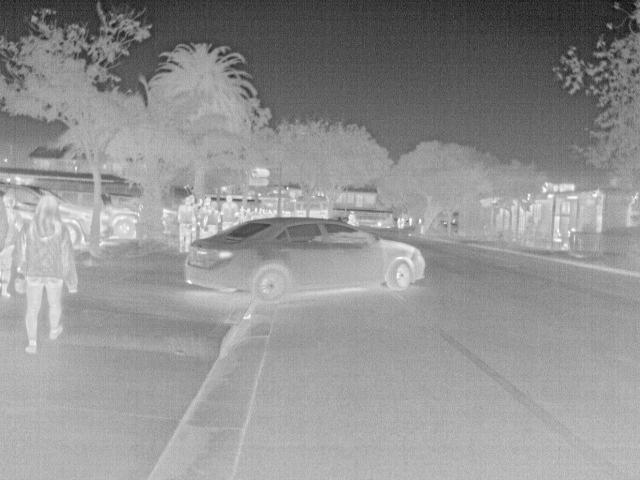car: (182, 215, 429, 300), (2, 182, 95, 248), (105, 203, 141, 239), (162, 205, 180, 237)
person: (8, 193, 80, 356), (1, 196, 19, 300), (176, 196, 197, 252), (219, 193, 240, 231), (561, 227, 575, 248), (345, 209, 360, 227), (202, 195, 214, 213), (552, 226, 564, 243), (194, 196, 205, 209)
